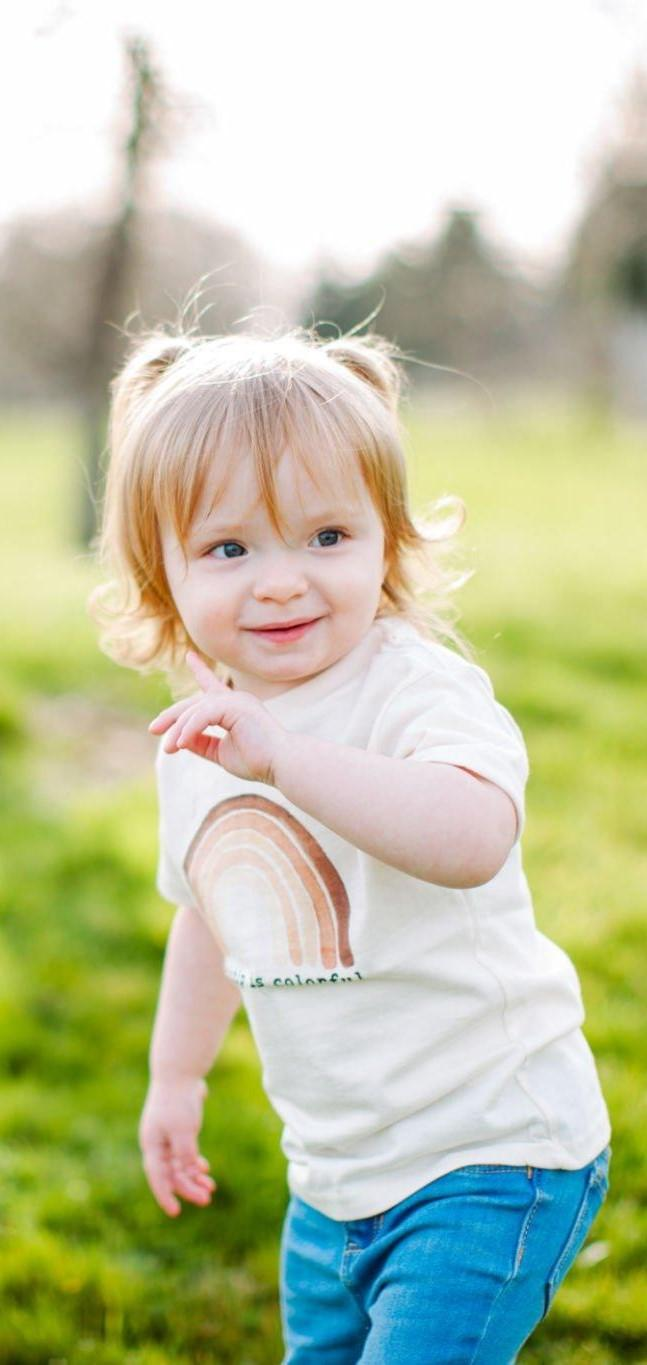Healthy: (87, 392, 429, 686)
